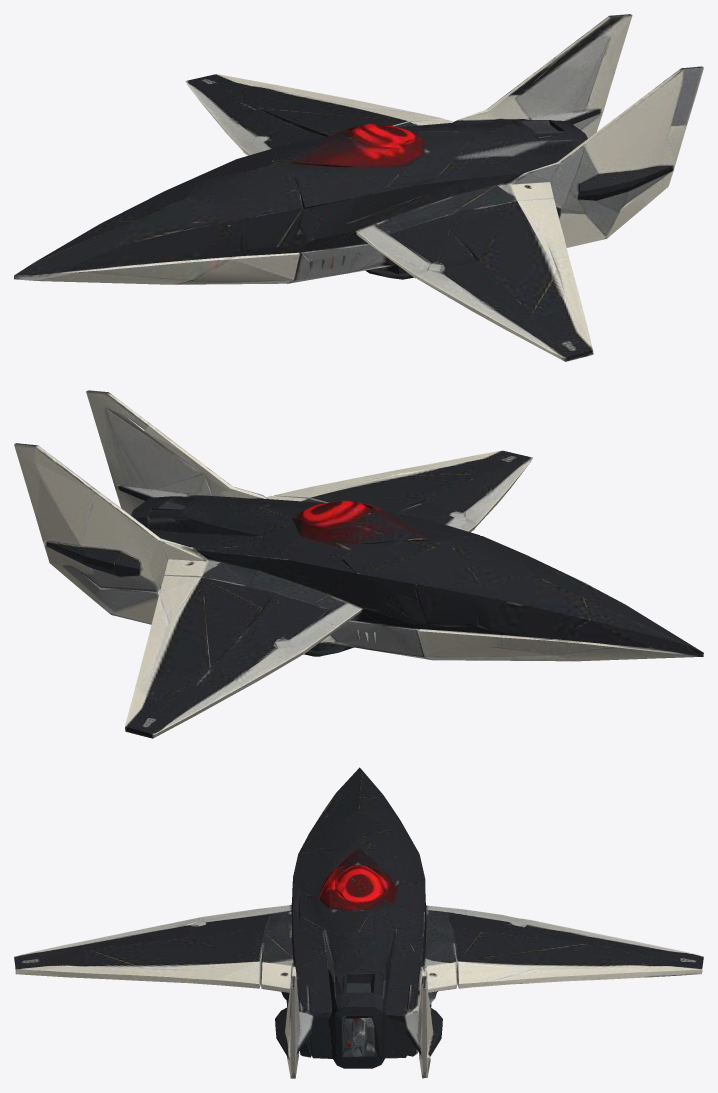
File: dart.glb
The picture shows the model from 3 angles, top to bottom: view 1: azimuth 30°, elevation 25°; view 2: azimuth 150°, elevation 25°; view 3: azimuth 270°, elevation 25°; orthographic projection. The views are drawn at different scales.
Bounding box in the file's own units: 1.89 × 0.4156 × 1.9.
1 material, 1 textured.
